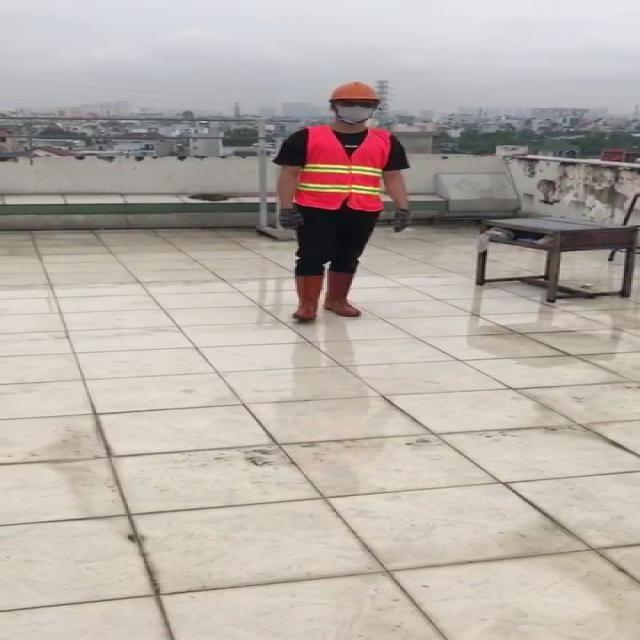boots: (282, 273, 326, 319), (320, 272, 363, 315)
gloves: (279, 207, 304, 229), (393, 208, 411, 232)
hard-hat: (329, 81, 381, 123), (329, 81, 379, 102)
person: (272, 81, 412, 321)
vest: (302, 123, 390, 208)
